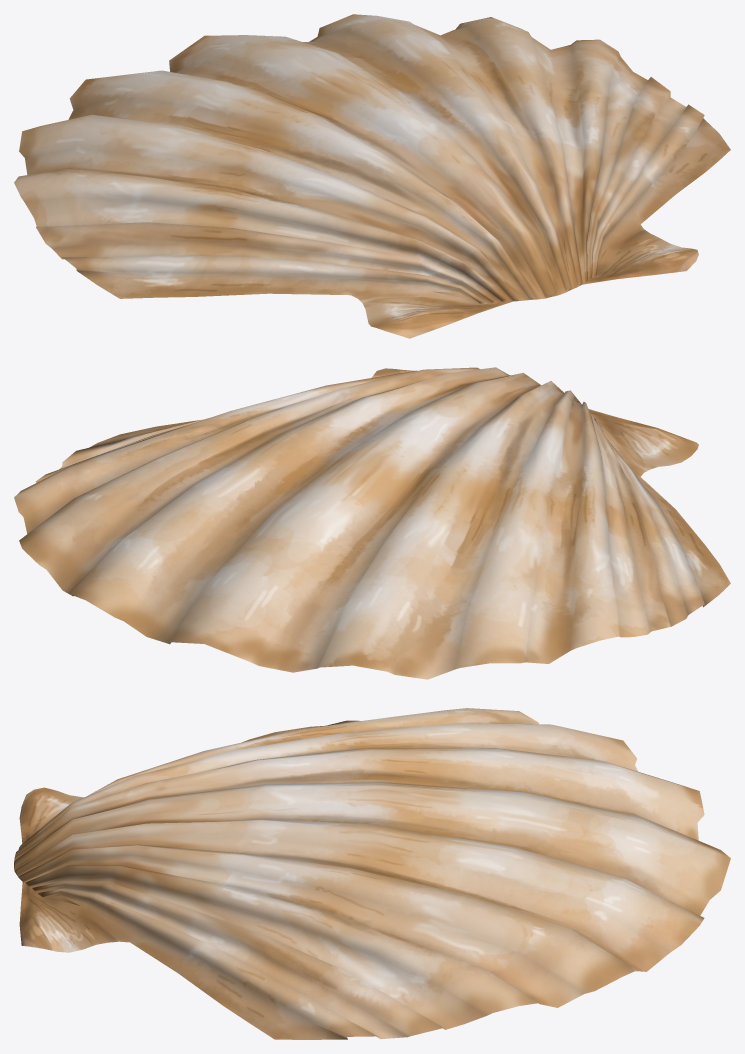
The model's file is cage_shell.glb.
3 renders of one model, top to bottom at view 1: azimuth 30°, elevation 25°; view 2: azimuth 150°, elevation 25°; view 3: azimuth 270°, elevation 25°, orthographic. The views are drawn at different scales.
Parts seen in each view (by area): view 1: cage_shell; view 2: cage_shell; view 3: cage_shell.
Part boxes in pixels (x1,y1,x2,y2): cage_shell: (14,14,730,338); cage_shell: (14,367,730,679); cage_shell: (14,708,730,1039).
Bounding box in the file's own units: 7.99 × 1.17 × 7.65.
Materials: 1 (1 with a texture image).
